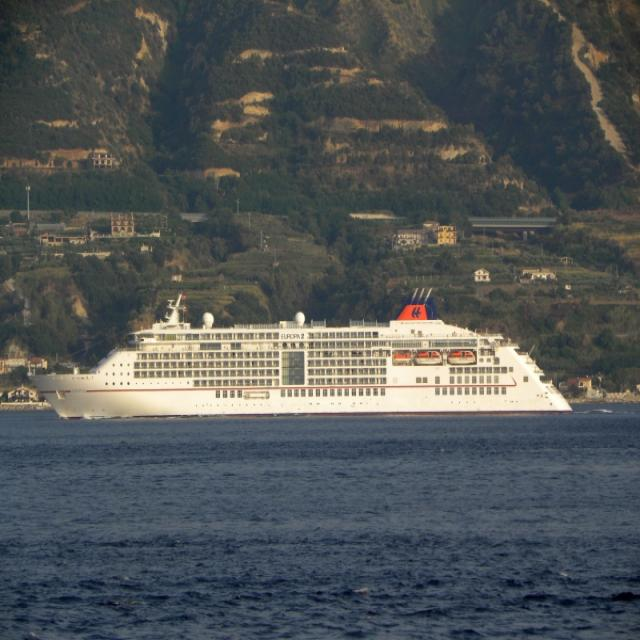cruises: (25, 285, 576, 420)
